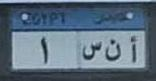1: (41, 37, 49, 65)
alif: (129, 35, 137, 63)
noon: (104, 40, 123, 62)
seen: (81, 41, 102, 63)
